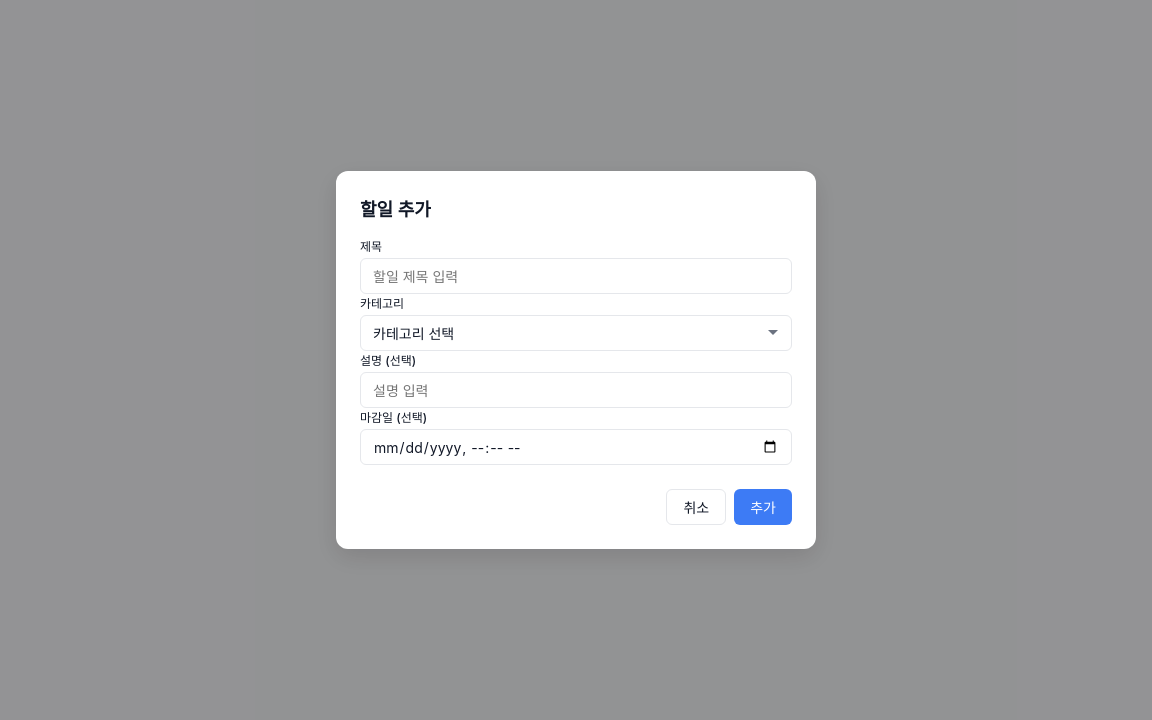
Test: AddTodoModal 유효성 검사 › 카테고리 없이 추가 시 에러 표시
The image size is (1152, 720).
In the field with placeholder "할일 제목 입력": (576,276) [360,258,792,294], type "새 할일"
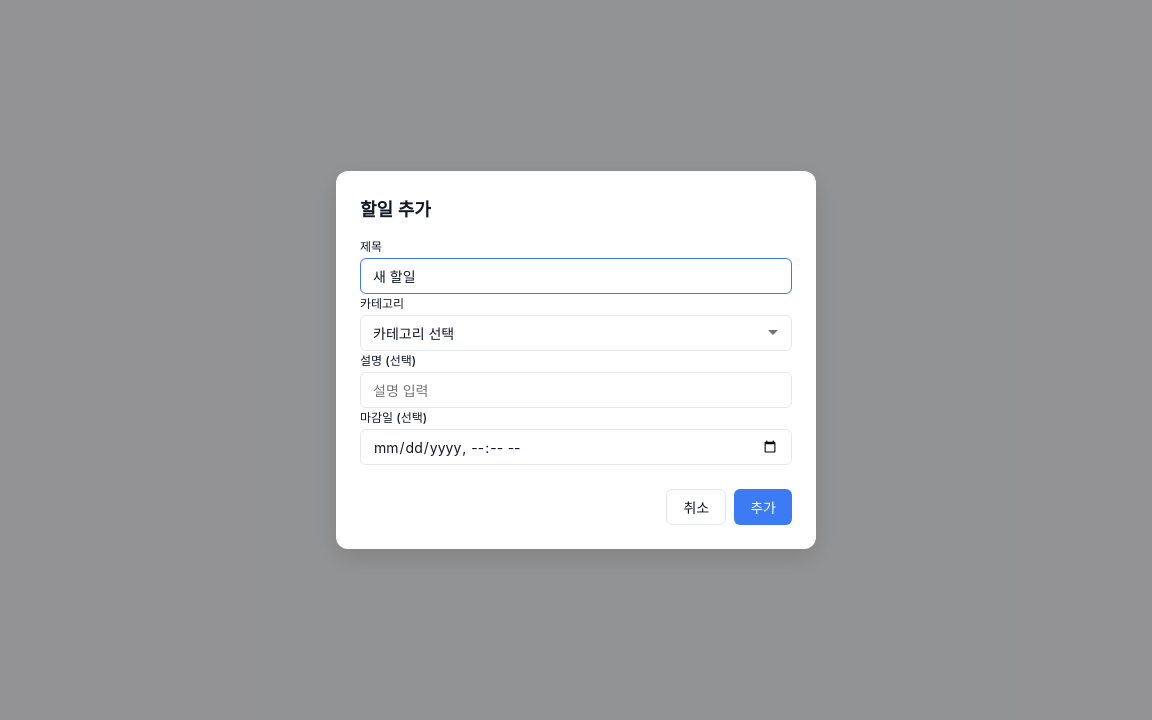
Click the button "추가": (763,507) [734,489,792,525]
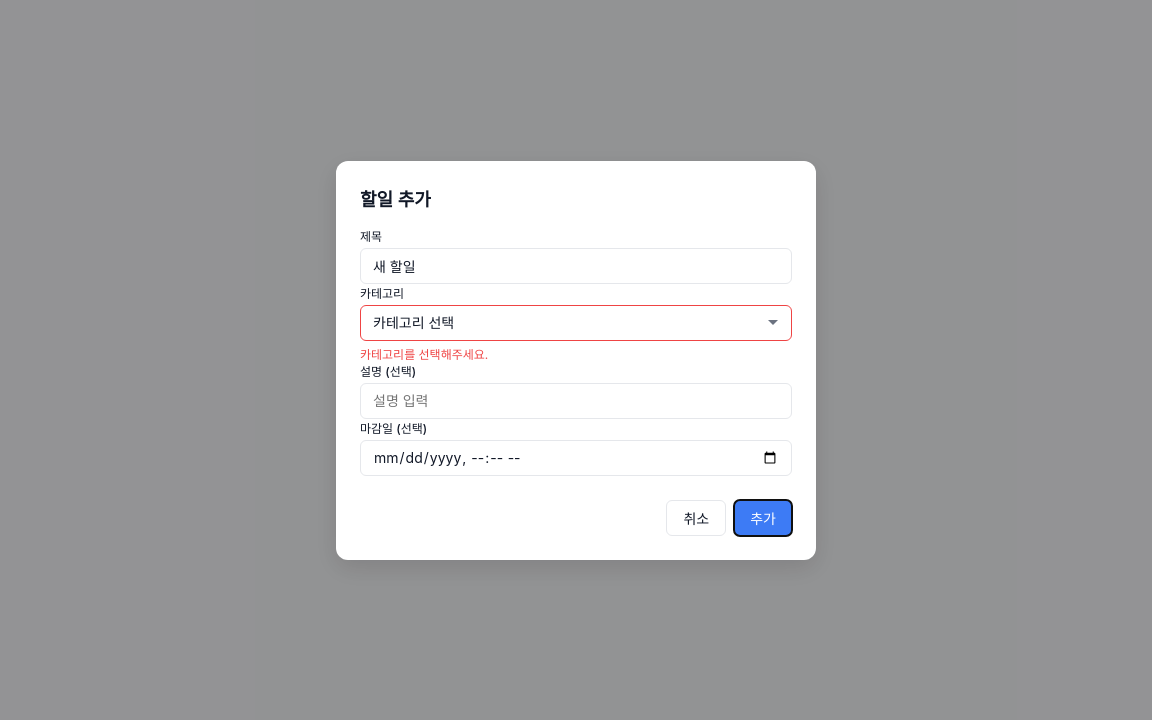
Check: the text "카테고리를 선택해주세요." is shown, box [360,346,488,362]
